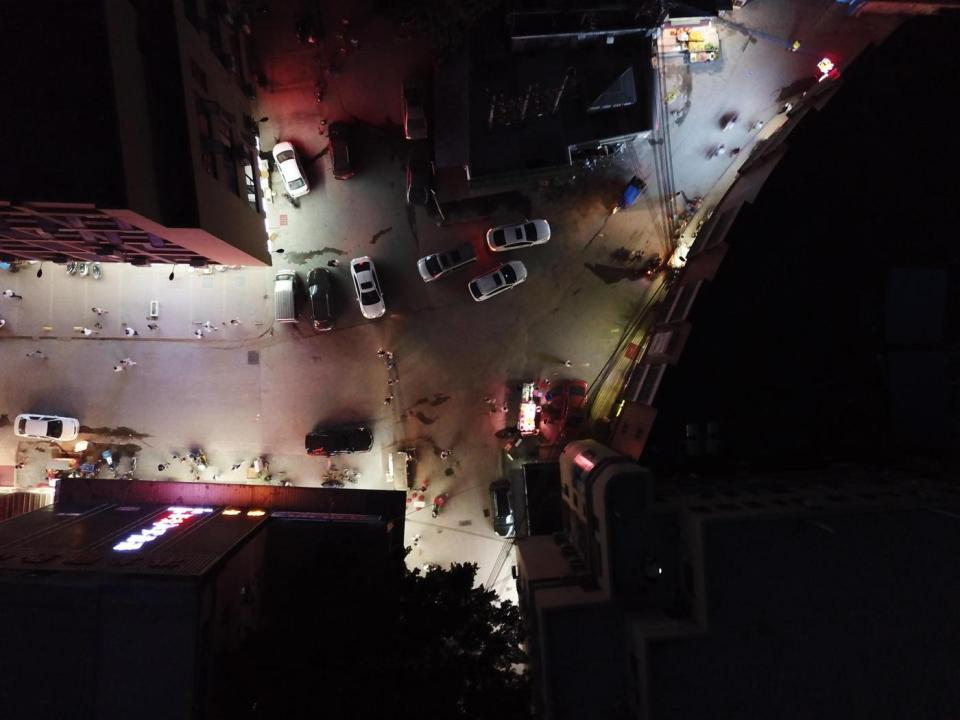car: (416, 240, 479, 283), (468, 259, 528, 302), (350, 255, 386, 319), (486, 218, 551, 252), (272, 142, 310, 198), (305, 266, 337, 331), (305, 427, 375, 456), (13, 413, 80, 443), (400, 73, 428, 140), (326, 121, 356, 180), (404, 146, 434, 204)
van: (272, 269, 300, 323), (488, 480, 515, 536)
